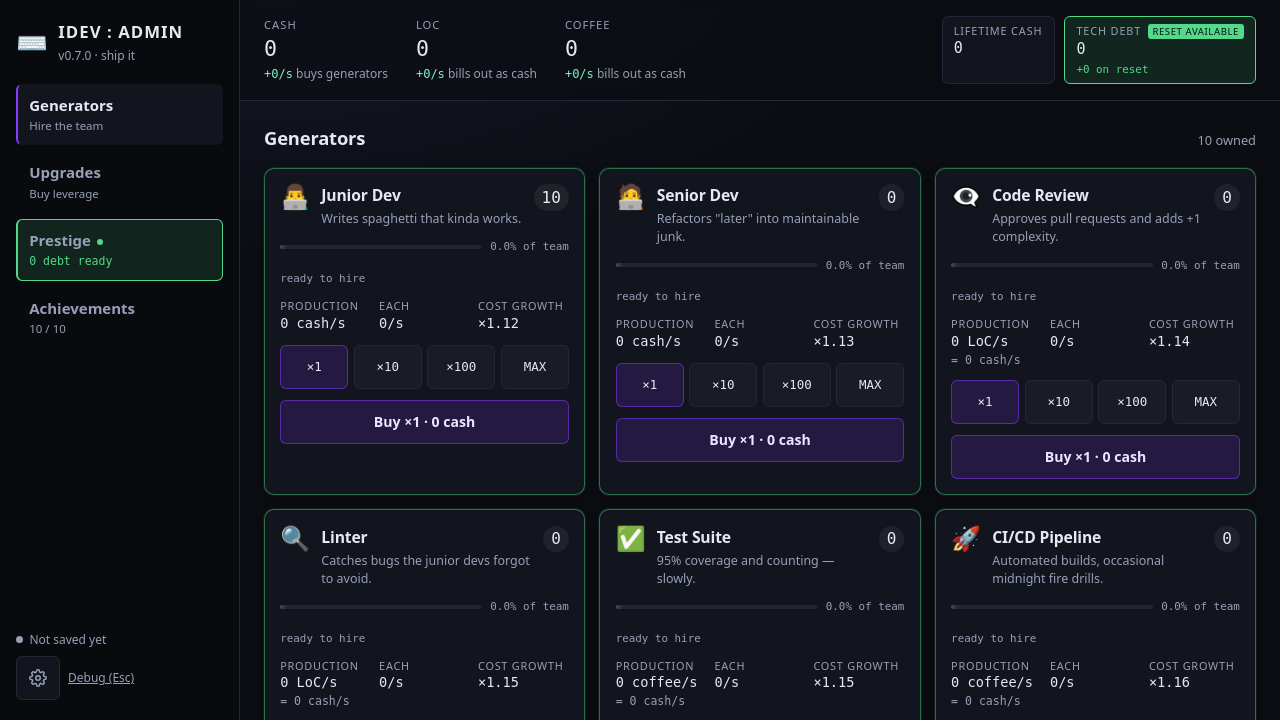
Scenario: App – save export and import › closes without changing state
Click the button "Prestige 0 debt ready" at [120, 250], box left=16, top=219, right=223, bottom=280
(page scrolled)
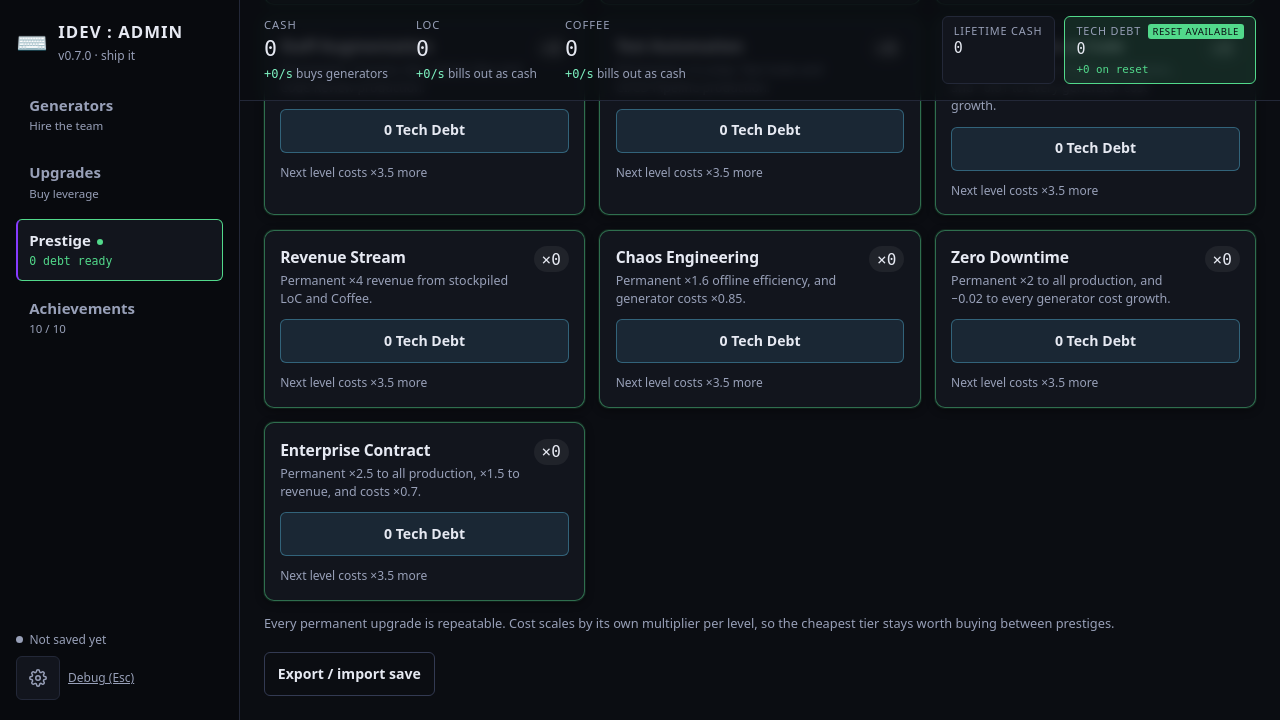
Click the button "Export / import save" at [349, 674], box left=264, top=652, right=435, bottom=696
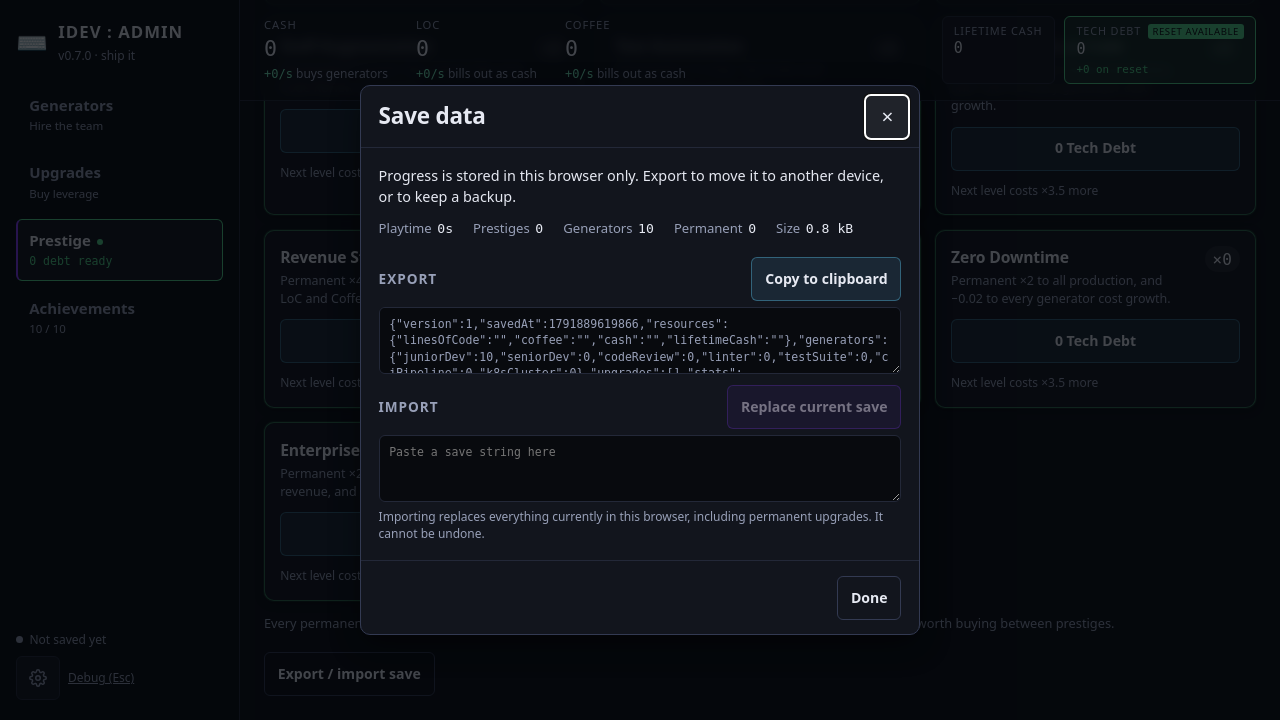
Click the button "Done" at [869, 598], box left=837, top=576, right=901, bottom=620
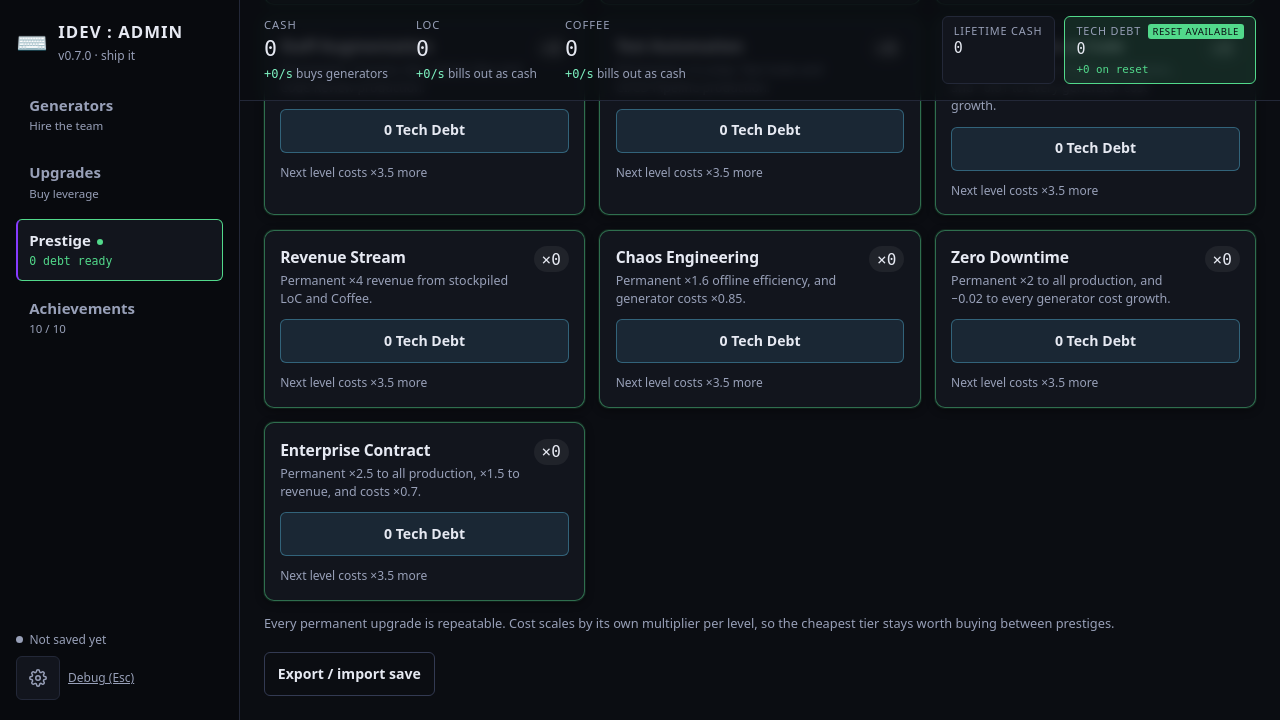
Check: the dialog is gone
